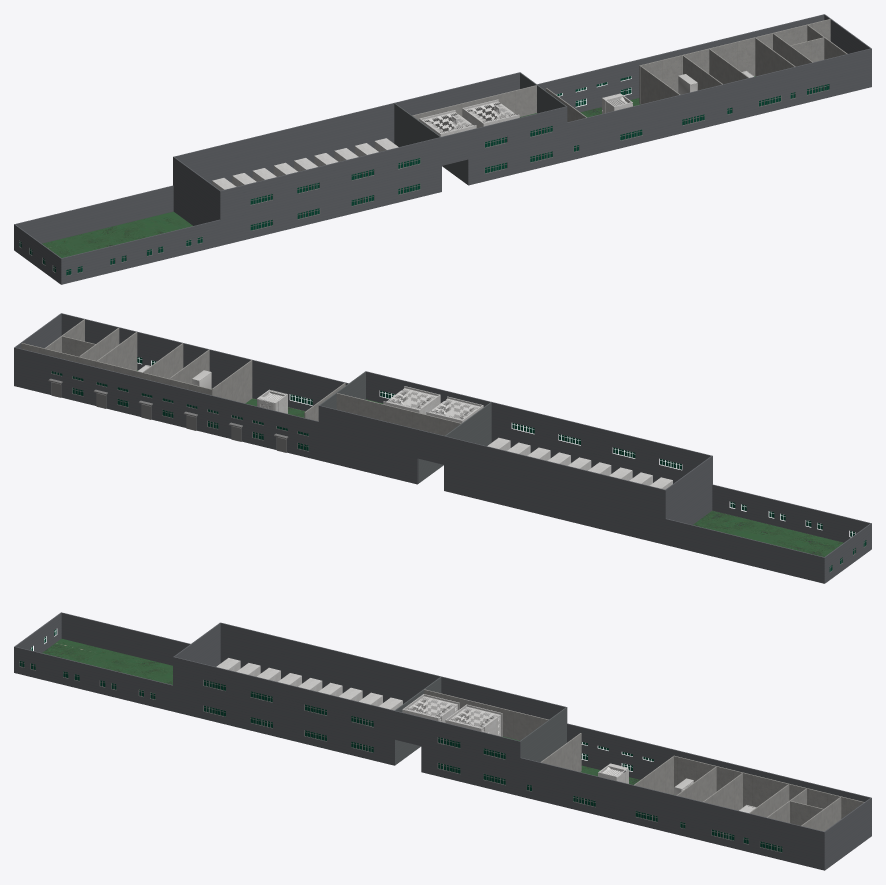
The picture shows the model from 3 angles, top to bottom: view 1: azimuth 30°, elevation 25°; view 2: azimuth 150°, elevation 25°; view 3: azimuth 330°, elevation 25°; orthographic projection.
Parts seen in each view (by area): view 1: pCube7 (5).001, polySurface7181.002, polySurface7183.002, polySurface6273.002, polySurface6769, fufanglvsedimian1.002, polySurface7184.002, reverb_shebei, new_sac_15k_shebei, polySurface6764, polySurface6760, polySurface7179.002 (+3 smaller); view 2: pCube7 (5).001, polySurface7183.002, polySurface7181.002, fufanglvsedimian1.002, polySurface6273.002, polySurface6769, polySurface7184.002, polySurface6760, reverb_shebei, new_sac_15k_shebei, polySurface6764, polySurface6763 (+2 smaller); view 3: pCube7 (5).001, polySurface7181.002, polySurface6273.002, polySurface7183.002, polySurface6769, fufanglvsedimian1.002, reverb_shebei, new_sac_15k_shebei, polySurface7184.002, polySurface6761, polySurface7179.002, polySurface6760 (+5 smaller).
Boxes of the visible parts, x1,y1,x2,y2 form: pCube7 (5).001: (173, 14, 871, 245); polySurface7181.002: (60, 219, 220, 284); polySurface7183.002: (14, 185, 173, 250); polySurface6273.002: (19, 76, 829, 276); polySurface6769: (639, 19, 830, 103); fufanglvsedimian1.002: (42, 76, 755, 257); polySurface7184.002: (14, 224, 61, 283); reverb_shebei: (462, 99, 519, 127); new_sac_15k_shebei: (419, 110, 476, 136); polySurface6764: (755, 38, 795, 76); polySurface6760: (640, 66, 680, 104); polySurface7179.002: (442, 130, 468, 165); pCube7 (5).001: (14, 313, 712, 544); polySurface7183.002: (665, 518, 825, 583); polySurface7181.002: (712, 484, 871, 549); fufanglvsedimian1.002: (137, 370, 843, 556); polySurface6273.002: (51, 357, 866, 572); polySurface6769: (21, 343, 212, 417); polySurface7184.002: (824, 523, 871, 582); polySurface6760: (212, 360, 252, 403); reverb_shebei: (383, 386, 440, 414); new_sac_15k_shebei: (426, 396, 483, 423); polySurface6764: (97, 332, 137, 370); polySurface6763: (143, 343, 183, 378); pCube7 (5).001: (173, 622, 871, 870); polySurface7181.002: (14, 646, 172, 711); polySurface6273.002: (19, 629, 782, 852); polySurface7183.002: (61, 612, 190, 665); polySurface6769: (673, 755, 864, 818); fufanglvsedimian1.002: (42, 638, 674, 794); reverb_shebei: (445, 704, 502, 736); new_sac_15k_shebei: (402, 694, 459, 722); polySurface7184.002: (15, 612, 61, 652); polySurface6761: (541, 733, 581, 771); polySurface7179.002: (394, 710, 421, 745); polySurface6760: (634, 756, 673, 794).
Bounding box in the file's own units: 198 × 12.82 × 20.94.
9 materials, 8 textured.
